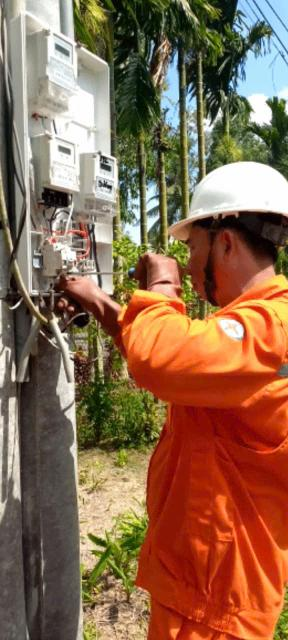gloves: (62, 266, 140, 342), (124, 240, 193, 317)
helmet: (147, 158, 288, 241)
